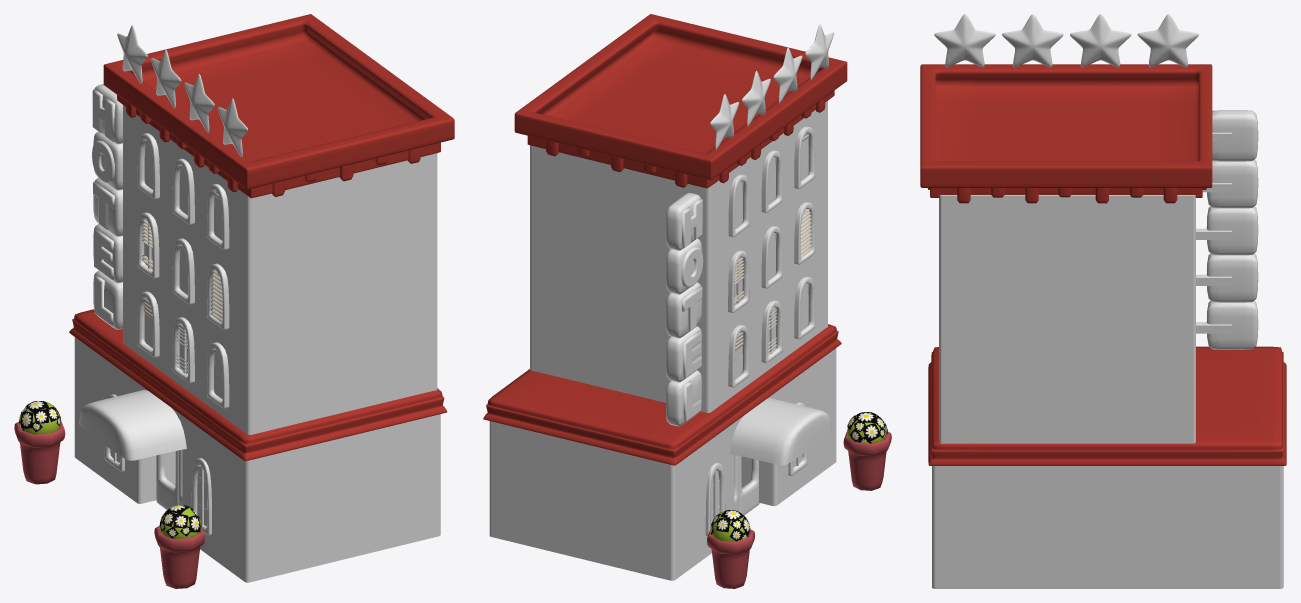
Rendered from hotel.fbx.
3 views of the same model, side by side, from view 1: azimuth 30°, elevation 25°; view 2: azimuth 150°, elevation 25°; view 3: azimuth 270°, elevation 25° (orthographic). The views are drawn at different scales.
Parts seen in each view (by area): view 1: Cube.024, Cube, Cube.073, Cube.003, Cube.032, Cube.004, Cube.081, Star, Text, Cube.093, Cube.098, Cube.075 (+4 smaller); view 2: Cube.024, Cube, Cube.073, Cube.003, Cube.032, Cube.081, Cube.004, Star, Text, Cube.098, Cube.093, Cube.075 (+4 smaller); view 3: Cube.024, Cube, Cube.073, Cube.003, Cube.081, Star, Cube.075, Cube.072.
Part boxes in pixels (x1,y1,x2,y2): Cube.024: (123,105,437,434); Cube: (74,337,440,582); Cube.073: (103,14,454,189); Cube.003: (69,309,447,461); Cube.032: (137,133,229,408); Cube.004: (79,390,186,460); Cube.081: (93,84,122,329); Star: (117,25,247,157); Text: (92,89,115,325); Cube.093: (14,421,65,484); Cube.098: (154,526,205,588); Cube.075: (117,95,440,198); Cube.024: (530,101,827,412); Cube: (489,348,836,580); Cube.073: (514,14,847,180); Cube.003: (483,324,841,465); Cube.032: (728,126,815,387); Cube.081: (666,192,702,426); Cube.004: (730,398,832,465); Star: (710,24,834,149); Text: (681,198,702,422); Cube.098: (843,431,891,490); Cube.093: (707,529,754,588); Cube.075: (527,90,834,188); Cube.024: (939,195,1195,443); Cube: (932,466,1283,588); Cube.073: (920,64,1212,187); Cube.003: (928,346,1286,465); Cube.081: (1206,110,1258,349); Star: (934,14,1198,67); Cube.075: (930,188,1202,197); Cube.072: (927,188,1206,203).
Bounding box in the file's own units: 1337 × 2210 × 1523.
